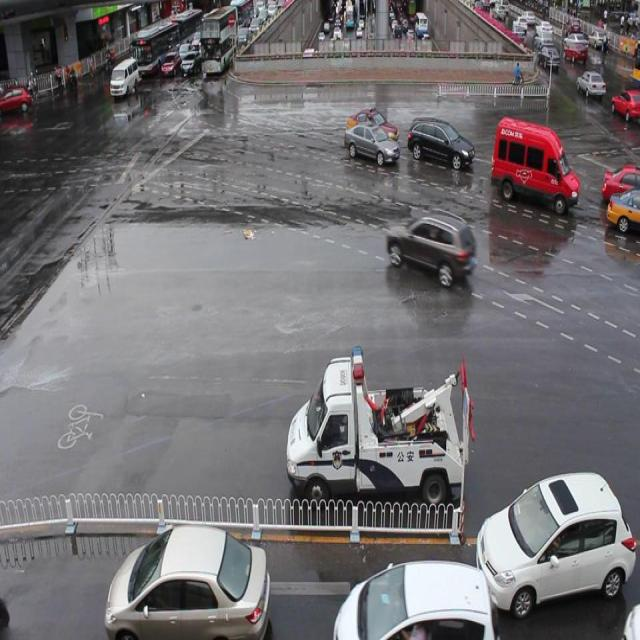bus: (285, 343, 473, 512)
car: (477, 470, 632, 612), (105, 520, 270, 640), (333, 558, 493, 640), (385, 208, 472, 284), (407, 114, 472, 169), (344, 121, 397, 167), (347, 106, 398, 148), (606, 186, 640, 237), (600, 163, 640, 206)
truck: (490, 115, 578, 213)
